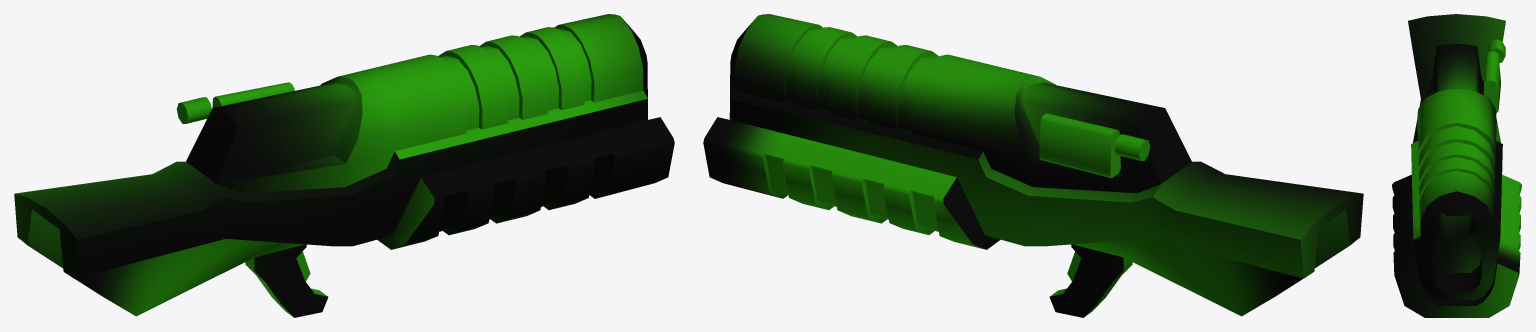
3 views of the same model, side by side, from view 1: azimuth 30°, elevation 25°; view 2: azimuth 150°, elevation 25°; view 3: azimuth 270°, elevation 25° (orthographic). The views are drawn at different scales.
Parts seen in each view (by area): view 1: Plasmagun_noesis_meshnode_0000; view 2: Plasmagun_noesis_meshnode_0000; view 3: Plasmagun_noesis_meshnode_0000.
Part boxes in pixels (x1,y1,x2,y2): Plasmagun_noesis_meshnode_0000: (14,14,674,317); Plasmagun_noesis_meshnode_0000: (703,14,1363,317); Plasmagun_noesis_meshnode_0000: (1392,14,1521,317).
Bounding box in the file's own units: 28.64 × 10.23 × 7.03.
1 material, 1 textured.
